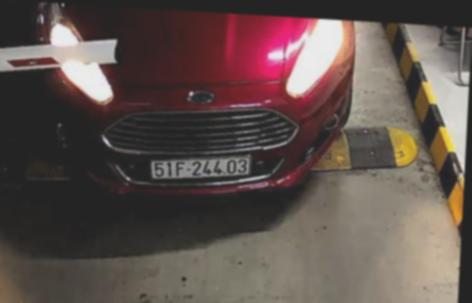License_Plate: (147, 150, 255, 186)
